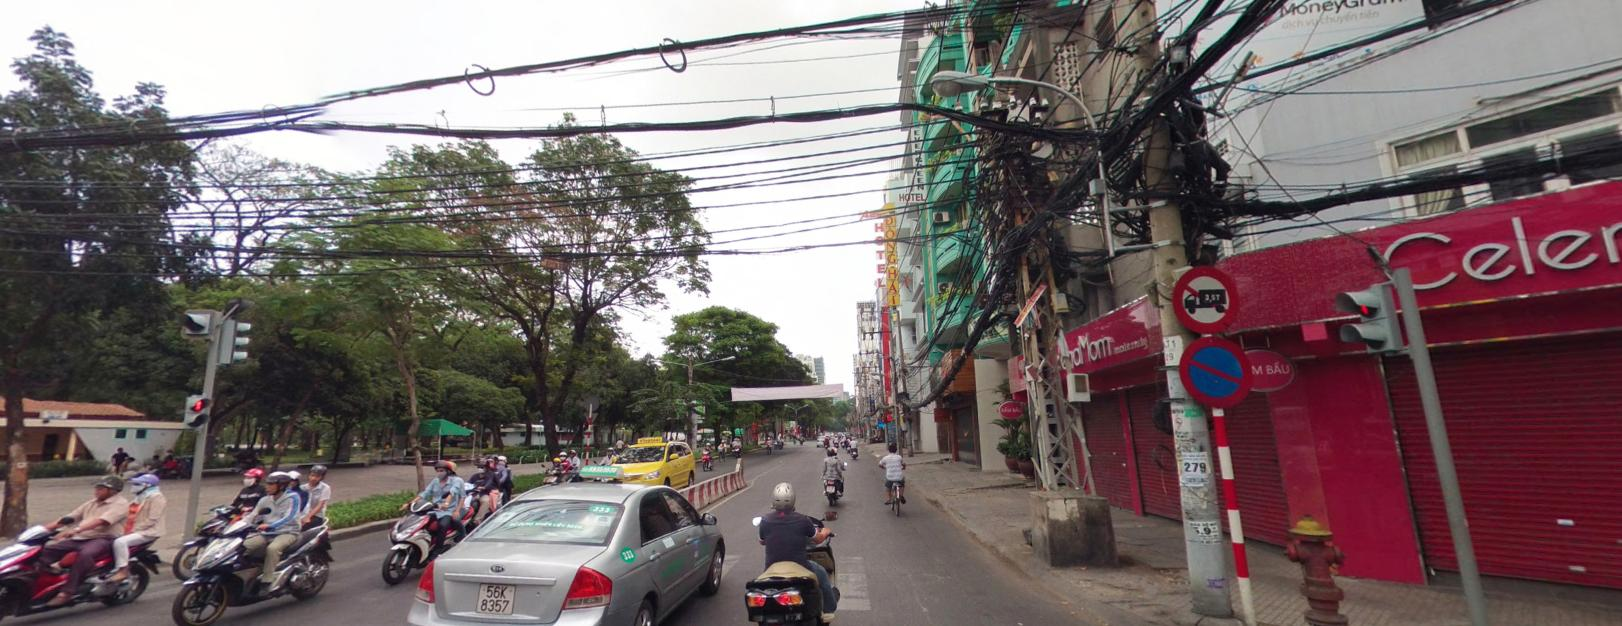Cam con lai: (1173, 265, 1239, 332)
Cam dung va do: (1179, 336, 1253, 407)
